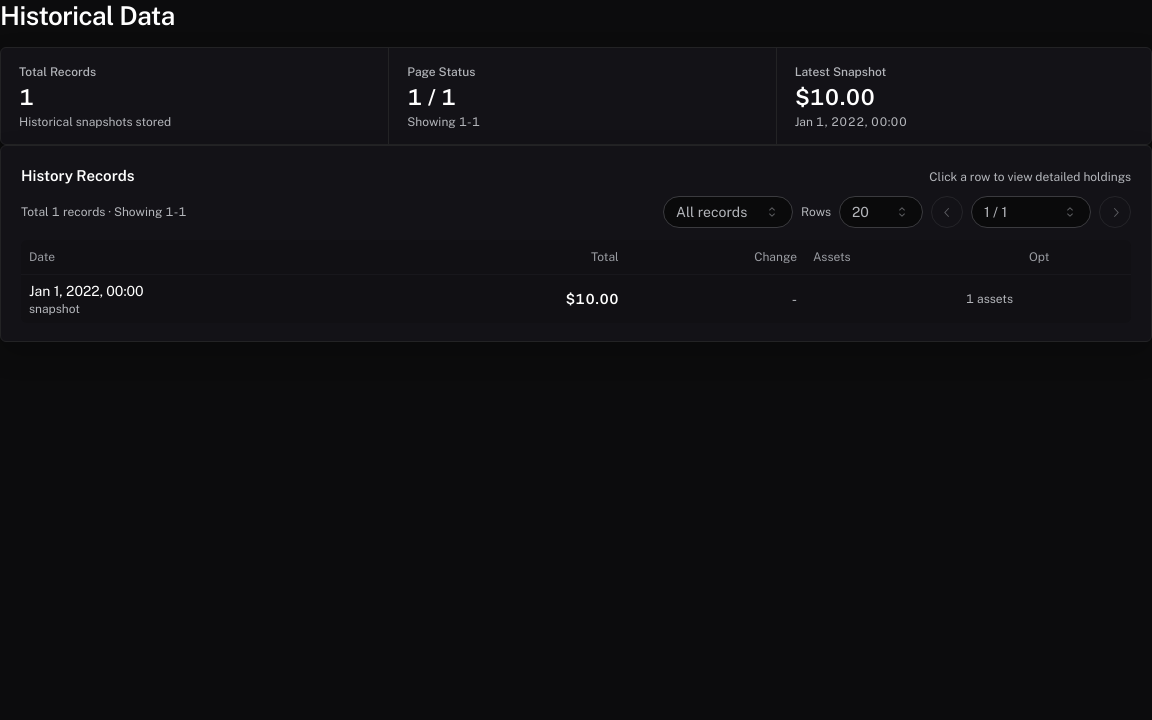
Scenario: shows a localized detail error when the snapshot query fails
What coordinates should you click on to do the following:
click the text "snapshot"
I would click on:
 (54, 309)
Its box is [29, 302, 80, 316].
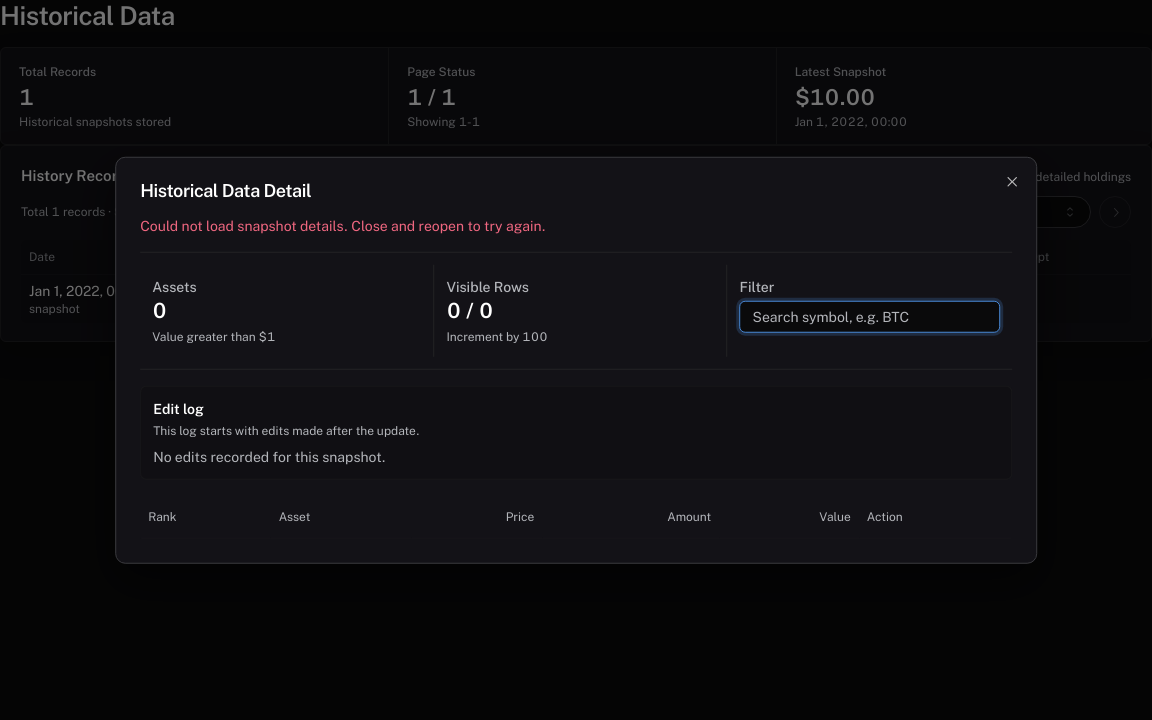
Check: the message shows "Could not load snapshot details", box [140, 218, 546, 234]
